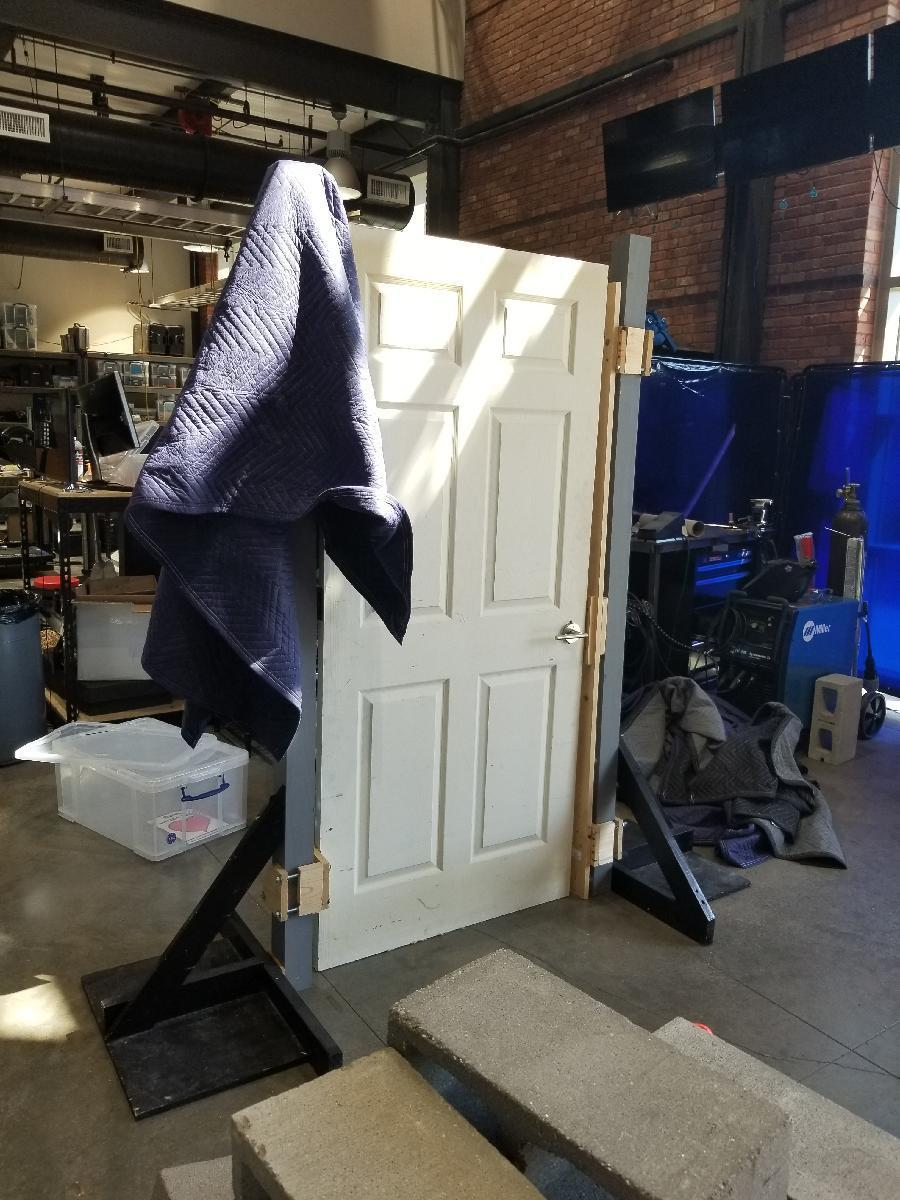door: (336, 233, 589, 943)
handle: (554, 622, 587, 648)
